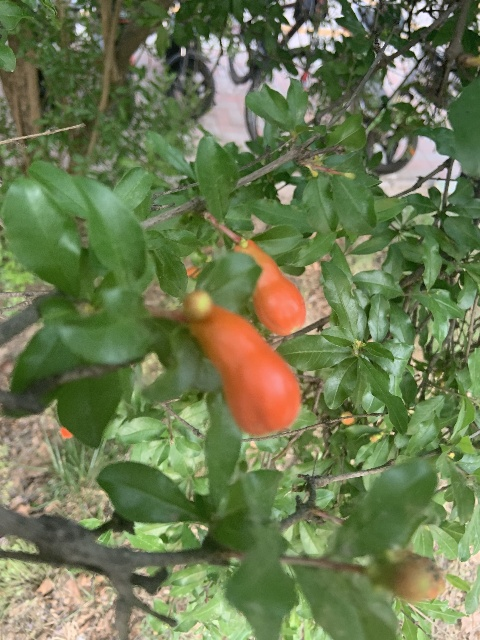bud: (190, 305, 302, 436), (236, 239, 306, 337), (378, 555, 446, 601), (181, 290, 212, 322)
